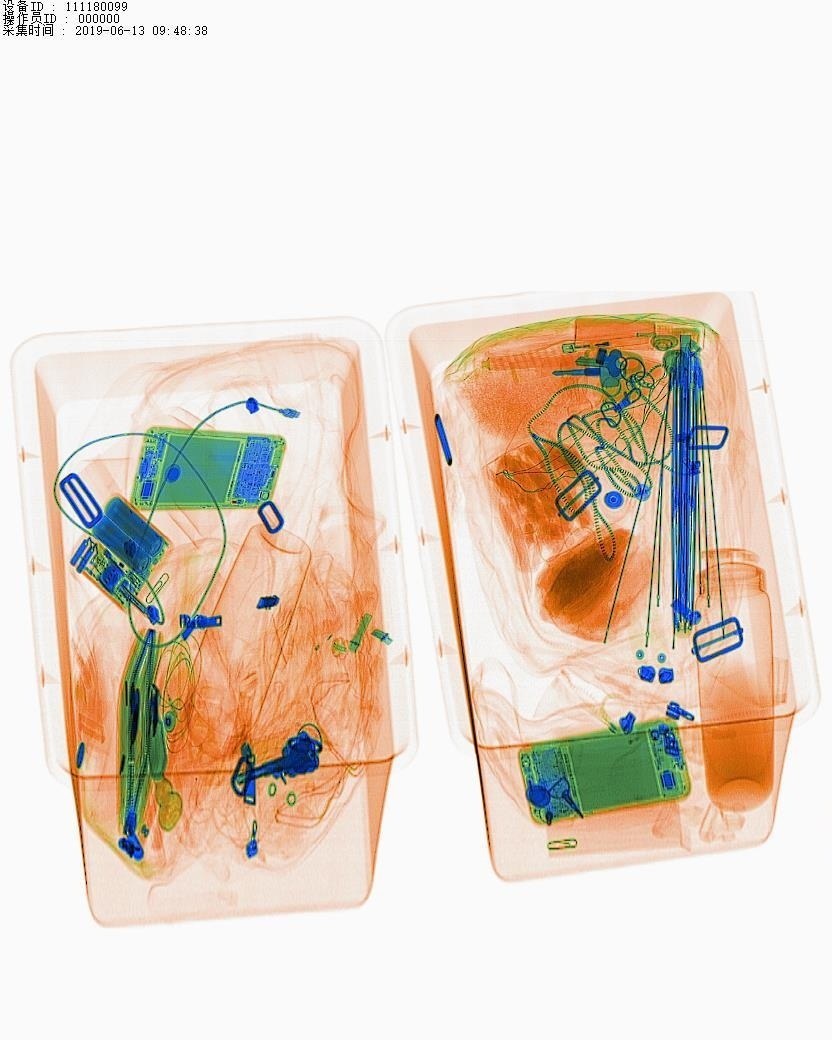NonmetallicFire: (561, 328, 671, 362)
